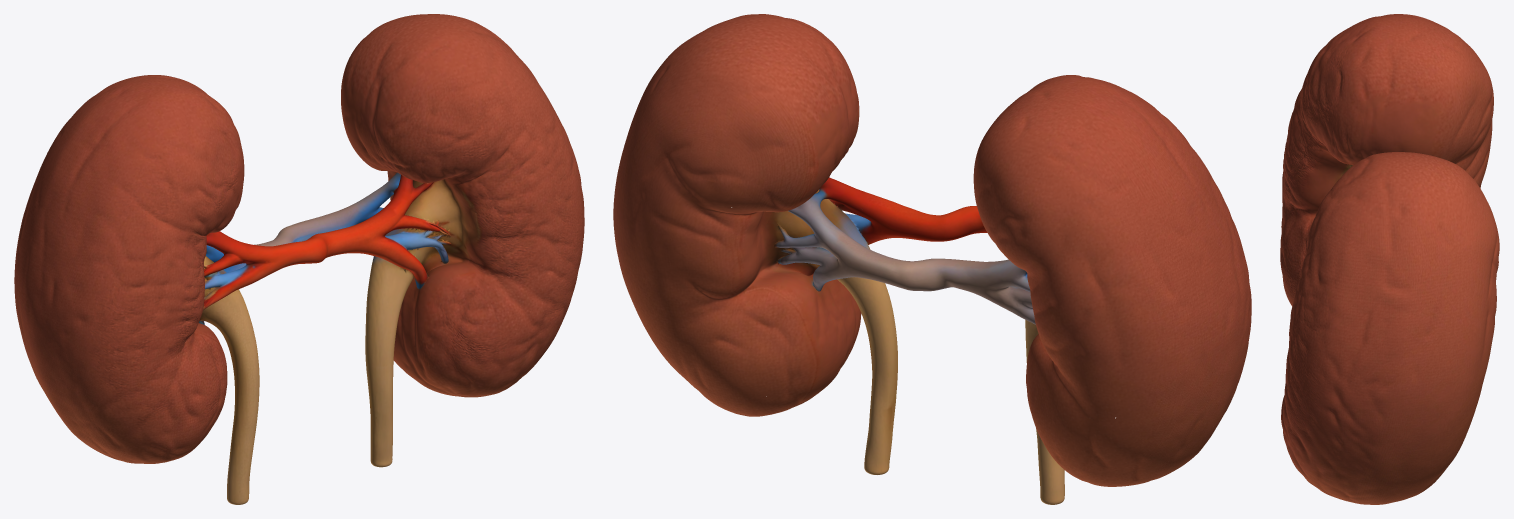
File: kidneys.glb
The picture shows the model from 3 angles, left to right: view 1: azimuth 30°, elevation 25°; view 2: azimuth 150°, elevation 25°; view 3: azimuth 270°, elevation 25°; orthographic projection. The views are drawn at different scales.
Visible parts, largest first — view 1: tripo_node_e5de9656-5b36-4996-8f10-3690a202b494; view 2: tripo_node_e5de9656-5b36-4996-8f10-3690a202b494; view 3: tripo_node_e5de9656-5b36-4996-8f10-3690a202b494.
Boxes of the visible parts, <box> form: tripo_node_e5de9656-5b36-4996-8f10-3690a202b494: <box>14,14,584,504</box>; tripo_node_e5de9656-5b36-4996-8f10-3690a202b494: <box>613,14,1251,504</box>; tripo_node_e5de9656-5b36-4996-8f10-3690a202b494: <box>1280,14,1499,504</box>.
Bounding box in the file's own units: 0.9794 × 0.7199 × 0.3718.
1 material, 1 textured.
